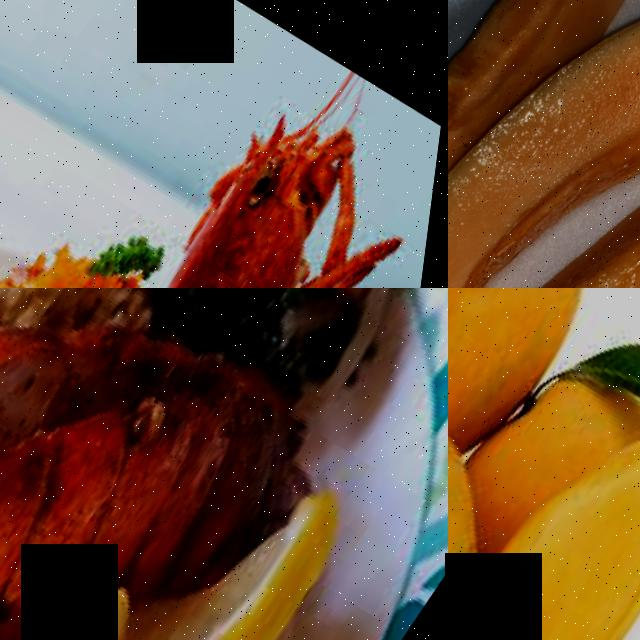lemon: (124, 447, 386, 640)
lobster tails: (0, 288, 237, 640)
mango: (448, 392, 640, 640), (448, 390, 560, 640)
melon: (448, 0, 640, 257), (448, 132, 640, 288)
